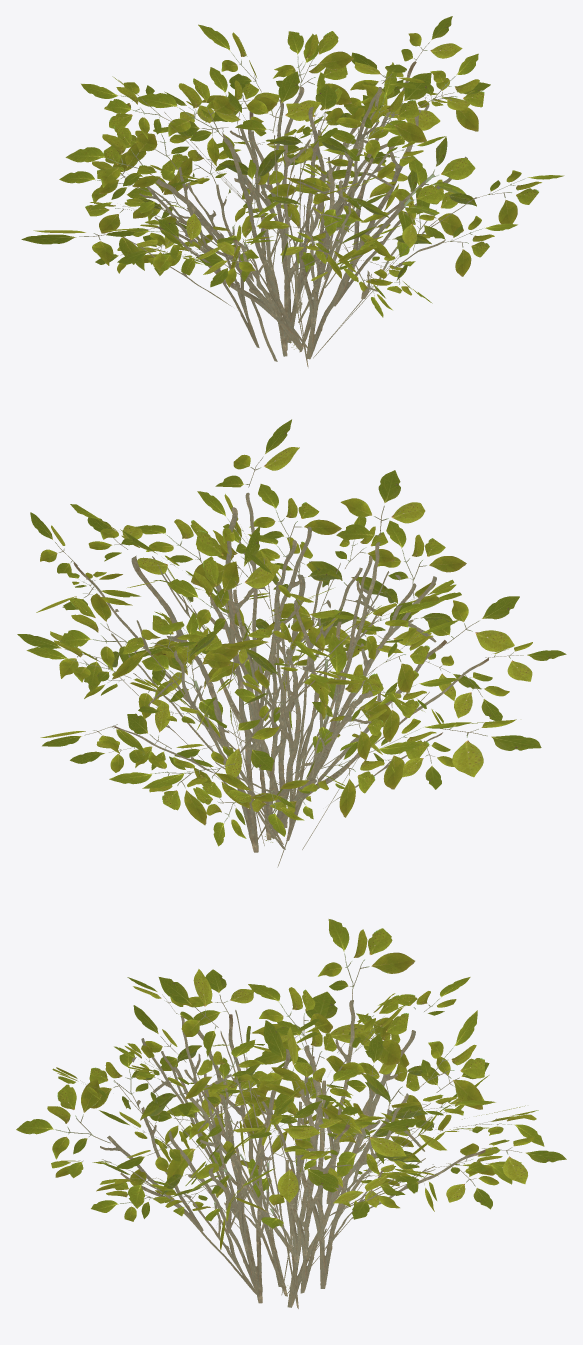
File: SM_Blueberry_A1.fbx
The picture shows the model from 3 angles, top to bottom: view 1: azimuth 30°, elevation 25°; view 2: azimuth 150°, elevation 25°; view 3: azimuth 270°, elevation 25°; orthographic projection. The views are drawn at different scales.
Visible parts, largest first — view 1: SM_Blueberry_A1_LOD2; view 2: SM_Blueberry_A1_LOD2; view 3: SM_Blueberry_A1_LOD2.
Boxes of the visible parts, x1,y1,x2,y2 form: SM_Blueberry_A1_LOD2: (21,16,564,367); SM_Blueberry_A1_LOD2: (17,419,566,867); SM_Blueberry_A1_LOD2: (16,919,566,1308).
Size of the model in its own units: 104 by 75.16 by 101.
1 material, 1 textured.
